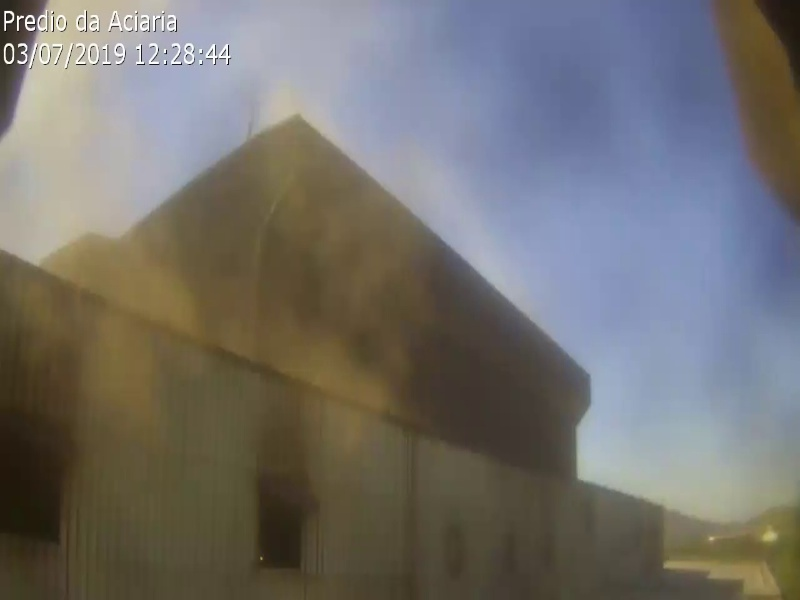Pessimo: (116, 241, 200, 309), (192, 271, 276, 339), (264, 310, 348, 378), (84, 325, 168, 393), (220, 207, 304, 275), (317, 207, 401, 275), (316, 330, 400, 398)
